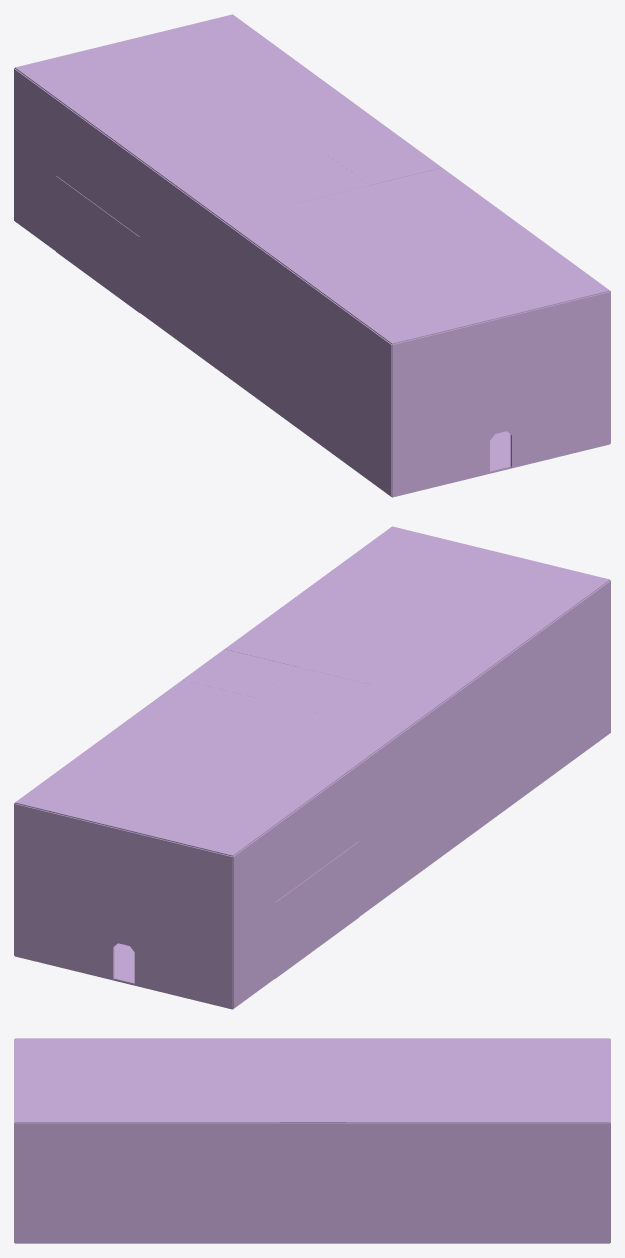
The model's file is lvl 2 no destruction.fbx.
3 renders of one model, top to bottom at view 1: azimuth 30°, elevation 25°; view 2: azimuth 150°, elevation 25°; view 3: azimuth 270°, elevation 25°, orthographic. The views are drawn at different scales.
Parts seen in each view (by area): view 1: plain wall.072, plain wall.071, plain wall.076, plain wall.074, plain wall.075, doored wall 1.004, plain wall.110, plain wall.109, plain wall.115, plain wall.116, plain wall.111, plain wall.112 (+40 smaller); view 2: plain wall.100, plain wall.099, plain wall.089, plain wall.096, plain wall.097, doored wall 1.003, plain wall.118, plain wall.101, plain wall.113, plain wall.114, plain wall.112, plain wall.115 (+40 smaller); view 3: plain wall.085, plain wall.086, plain wall.080, plain wall.082, plain wall.083, plain wall.084, plain wall.087, plain wall.088, plain wall.090, plain wall.091, plain wall.081, plain wall.077 (+33 smaller).
Part boxes in pixels (<box>): plain wall.072: <box>392,327,465,420</box>; plain wall.071: <box>392,403,465,496</box>; plain wall.076: <box>537,291,610,385</box>; plain wall.074: <box>465,309,537,403</box>; plain wall.075: <box>538,368,610,461</box>; doored wall 1.004: <box>465,385,537,479</box>; plain wall.110: <box>349,314,392,420</box>; plain wall.109: <box>349,390,392,496</box>; plain wall.115: <box>139,160,182,266</box>; plain wall.116: <box>97,130,140,236</box>; plain wall.111: <box>307,283,349,389</box>; plain wall.112: <box>265,252,307,358</box>; plain wall.100: <box>159,839,232,932</box>; plain wall.099: <box>159,915,232,1008</box>; plain wall.089: <box>87,821,159,915</box>; plain wall.096: <box>14,803,87,897</box>; plain wall.097: <box>14,880,86,973</box>; doored wall 1.003: <box>87,897,159,991</box>; plain wall.118: <box>232,826,275,932</box>; plain wall.101: <box>232,902,275,1008</box>; plain wall.113: <box>442,672,485,778</box>; plain wall.114: <box>401,703,443,809</box>; plain wall.112: <box>484,642,527,748</box>; plain wall.115: <box>359,734,401,840</box>; plain wall.085: <box>279,1183,345,1243</box>; plain wall.086: <box>279,1123,345,1183</box>; plain wall.080: <box>147,1183,213,1243</box>; plain wall.082: <box>147,1123,213,1183</box>; plain wall.083: <box>213,1183,279,1243</box>; plain wall.084: <box>213,1123,279,1183</box>; plain wall.087: <box>345,1183,411,1243</box>; plain wall.088: <box>411,1123,477,1183</box>; plain wall.090: <box>345,1123,411,1183</box>; plain wall.091: <box>411,1183,477,1243</box>; plain wall.081: <box>81,1123,147,1183</box>; plain wall.077: <box>15,1183,80,1243</box>.
Size of the model in its own units: 1211 by 811 by 3611.
